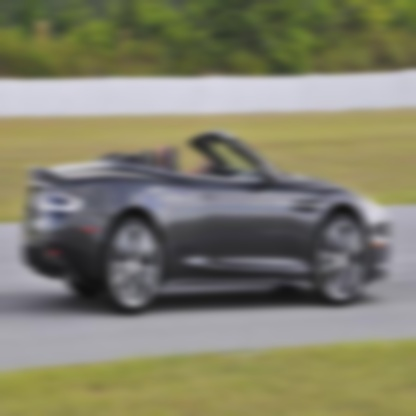Vehicle: (22, 129, 392, 315)
